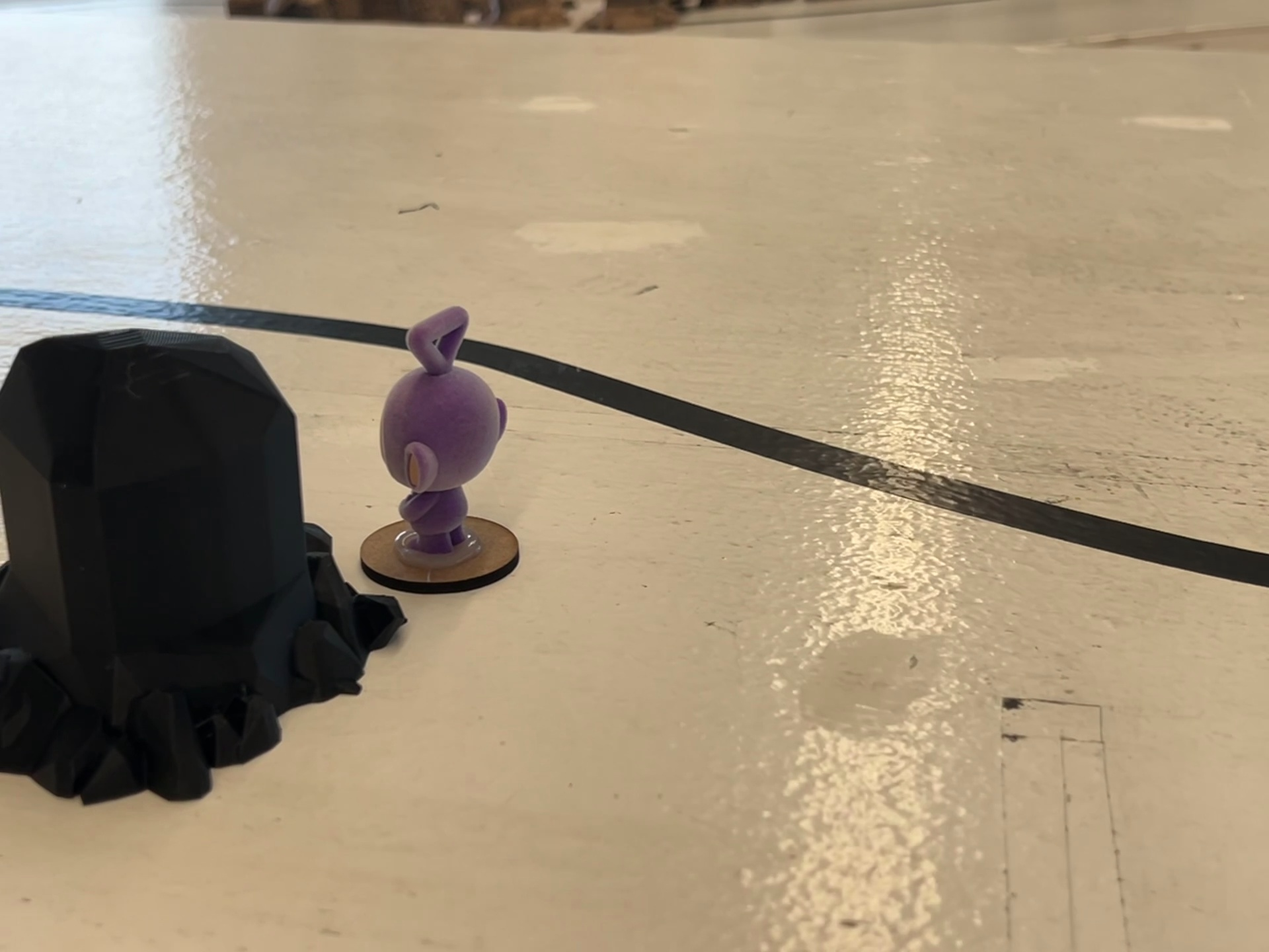teletubby: (380, 307, 507, 556)
